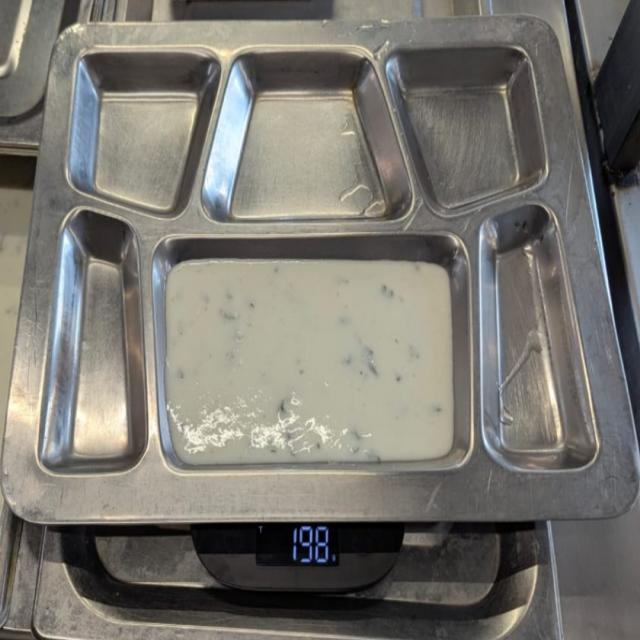Raita: (162, 251, 460, 467)
